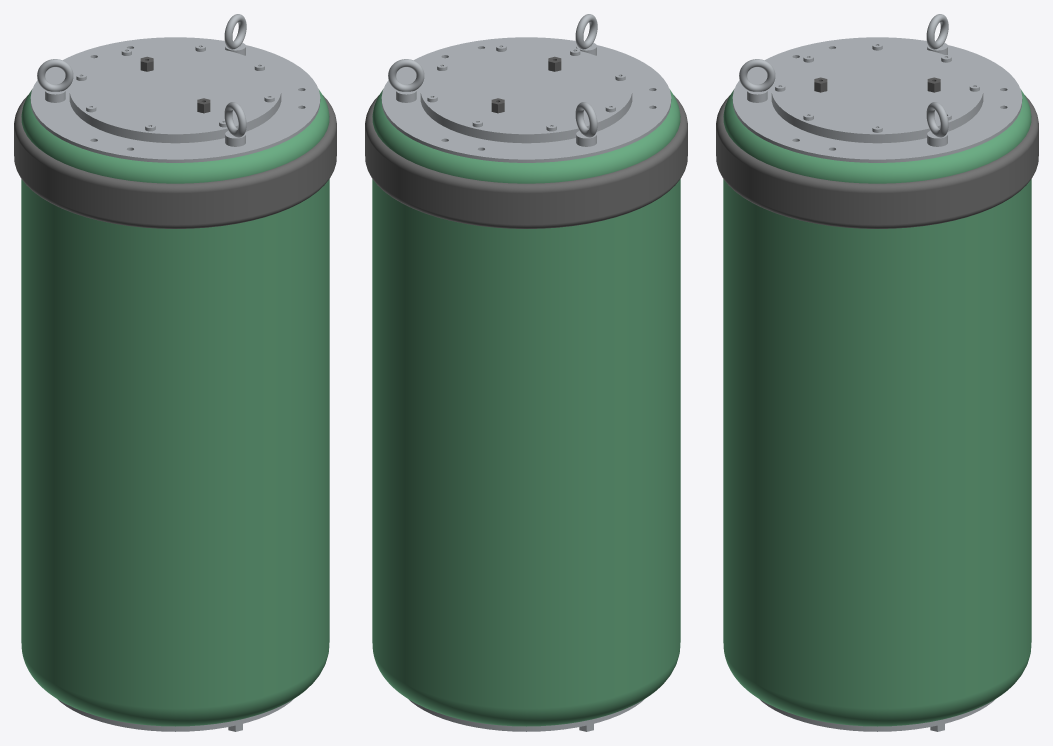
File: step_02.glb
The picture shows the model from 3 angles, left to right: view 1: azimuth 30°, elevation 25°; view 2: azimuth 150°, elevation 25°; view 3: azimuth 270°, elevation 25°; orthographic projection.
Visible parts, largest first — view 1: part__float hull, part__fender ring, part__hatch lid, part__deck plate, part__keel plate, part__equipment canister, part__lifting eye nut 2, part__lifting eye nut 3, part__lifting eye nut 1; view 2: part__float hull, part__fender ring, part__hatch lid, part__deck plate, part__keel plate, part__equipment canister, part__lifting eye nut 1, part__lifting eye nut 2, part__lifting eye nut 3; view 3: part__float hull, part__fender ring, part__hatch lid, part__deck plate, part__keel plate, part__equipment canister, part__lifting eye nut 3, part__lifting eye nut 1, part__lifting eye nut 2.
Boxes of the visible parts, <box> form: part__float hull: <box>21,89,329,726</box>; part__fender ring: <box>14,95,336,228</box>; part__hatch lid: <box>69,44,281,138</box>; part__deck plate: <box>30,37,320,162</box>; part__keel plate: <box>58,699,292,731</box>; part__equipment canister: <box>69,97,281,143</box>; part__lifting eye nut 2: <box>37,59,73,102</box>; part__lifting eye nut 3: <box>224,102,246,146</box>; part__lifting eye nut 1: <box>224,14,246,55</box>; part__float hull: <box>372,89,680,726</box>; part__fender ring: <box>365,95,687,228</box>; part__hatch lid: <box>420,44,632,138</box>; part__deck plate: <box>381,37,671,162</box>; part__keel plate: <box>409,699,643,731</box>; part__equipment canister: <box>420,97,632,143</box>; part__lifting eye nut 1: <box>388,59,424,102</box>; part__lifting eye nut 2: <box>575,102,597,146</box>; part__lifting eye nut 3: <box>575,14,597,55</box>; part__float hull: <box>723,89,1031,726</box>; part__fender ring: <box>716,95,1038,228</box>; part__hatch lid: <box>771,44,983,138</box>; part__deck plate: <box>732,37,1022,162</box>; part__keel plate: <box>759,699,994,731</box>; part__equipment canister: <box>771,97,983,143</box>; part__lifting eye nut 3: <box>739,59,775,102</box>; part__lifting eye nut 1: <box>926,102,948,146</box>; part__lifting eye nut 2: <box>926,14,948,54</box>.
Bounding box in the file's own units: 524 × 1121 × 524.
